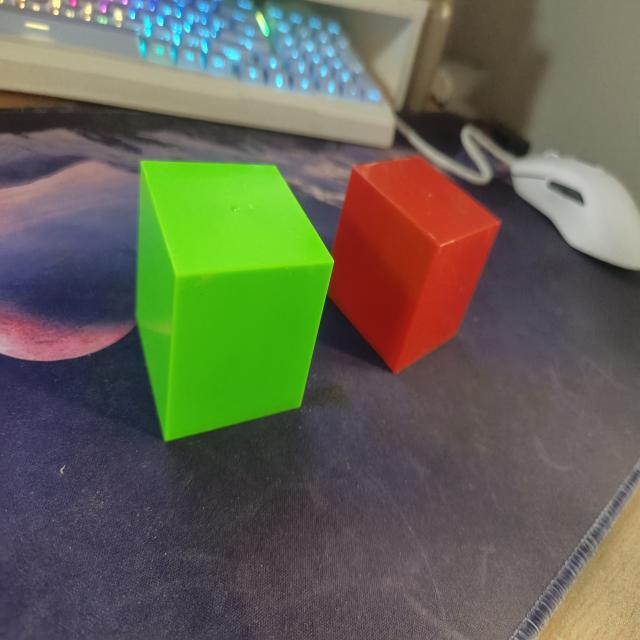green: (129, 156, 339, 455)
red: (328, 148, 512, 382)
